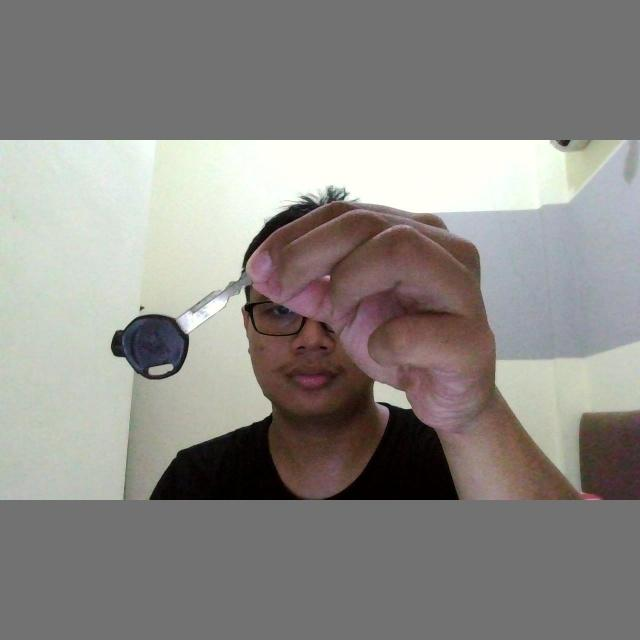Keys: (106, 251, 248, 385)
